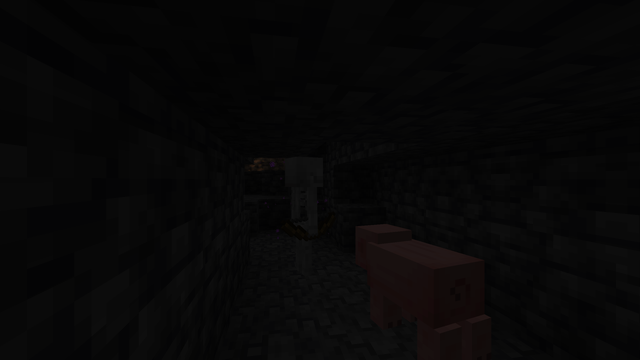cochons: (363, 237, 490, 359)
squelettes: (285, 157, 322, 279)
